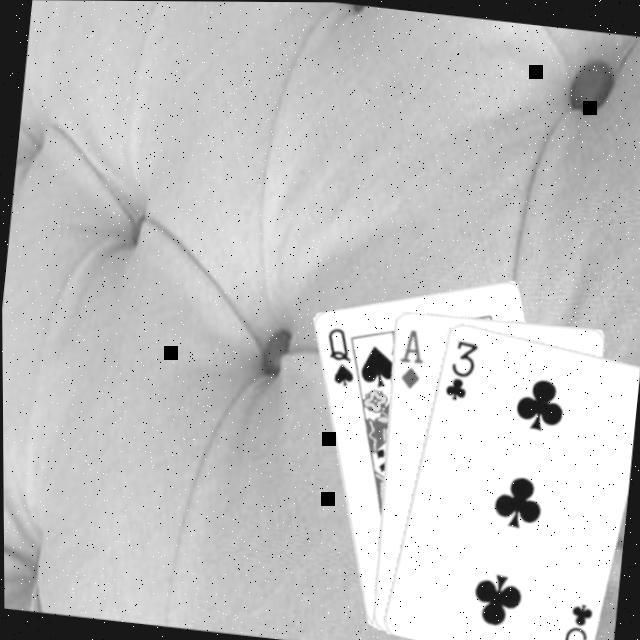3C: (441, 336, 482, 405), (556, 598, 596, 640)
AD: (394, 326, 428, 393)
QS: (319, 324, 362, 392)
